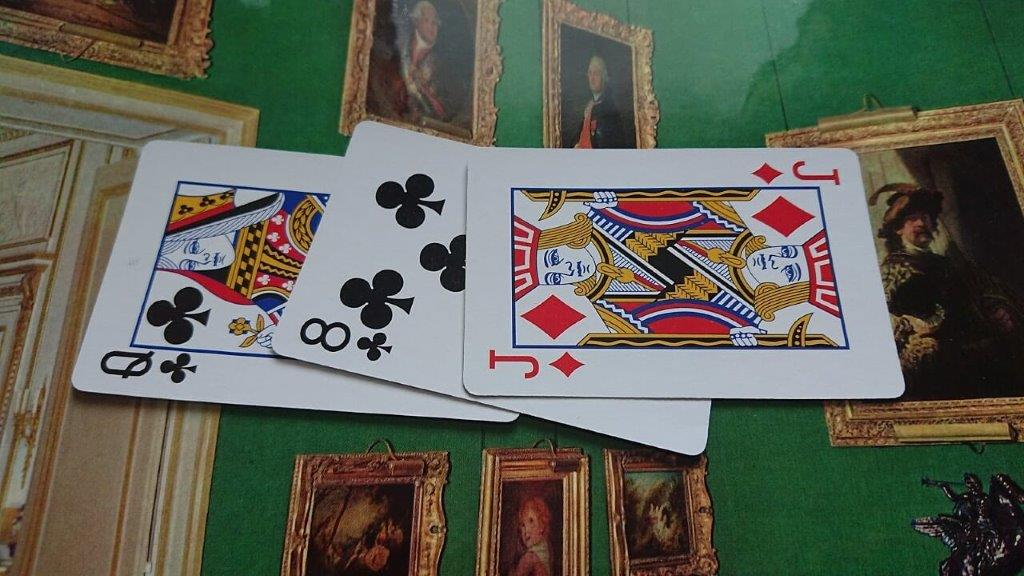8C: (270, 118, 461, 401)
JD: (460, 145, 908, 401)
QC: (68, 138, 270, 409)
